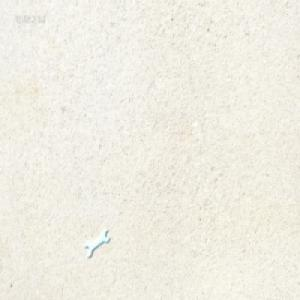Wrench: (86, 230, 110, 258)
